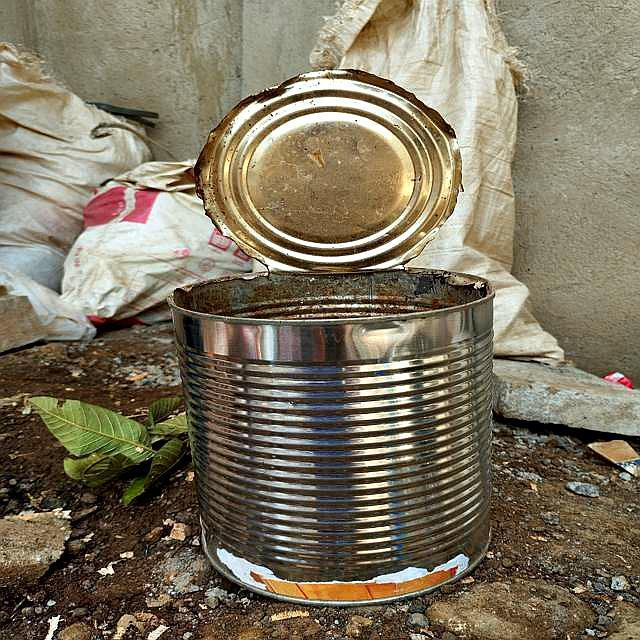Non-biodegradable: (165, 67, 503, 611)
